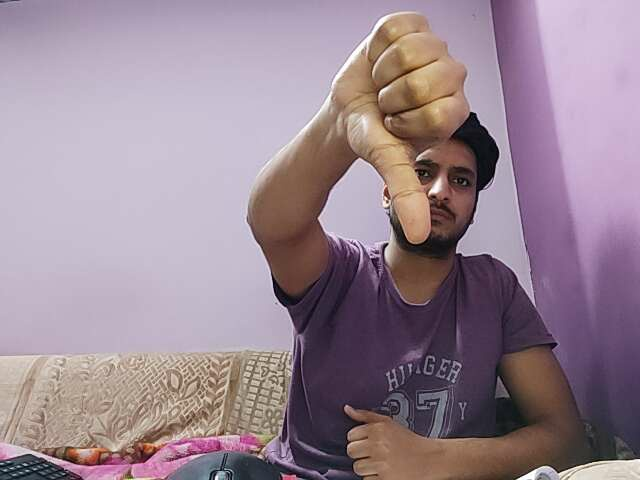ThumbsDown: (332, 11, 468, 241)
